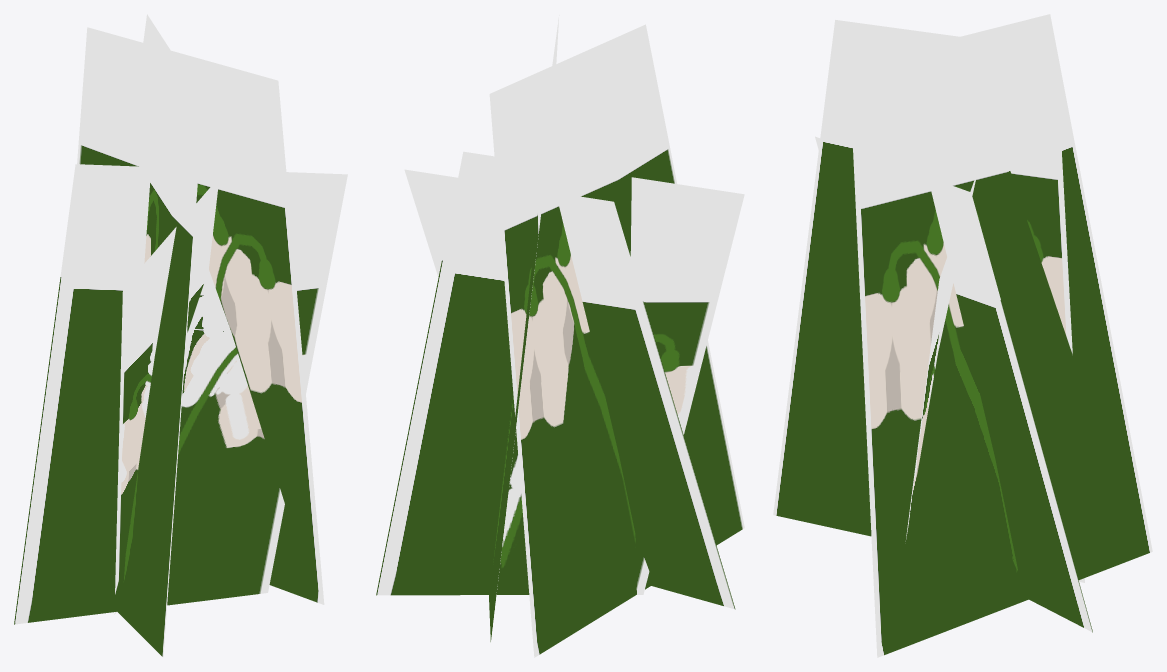
File: PT_Snowdrops_02.fbx
3 views of the same model, side by side, from view 1: azimuth 30°, elevation 25°; view 2: azimuth 150°, elevation 25°; view 3: azimuth 270°, elevation 25° (orthographic). The views are drawn at different scales.
Visible parts, largest first — view 1: PT_Snowdrops_02_LOD0; view 2: PT_Snowdrops_02_LOD0; view 3: PT_Snowdrops_02_LOD0.
Boxes of the visible parts, x1=… form: PT_Snowdrops_02_LOD0: x1=14, y1=14, x2=347, y2=657; PT_Snowdrops_02_LOD0: x1=376, y1=15, x2=744, y2=657; PT_Snowdrops_02_LOD0: x1=773, y1=14, x2=1152, y2=657.
Size of what is drawn, in the model's own units: 24.72 by 38.97 by 23.62.
